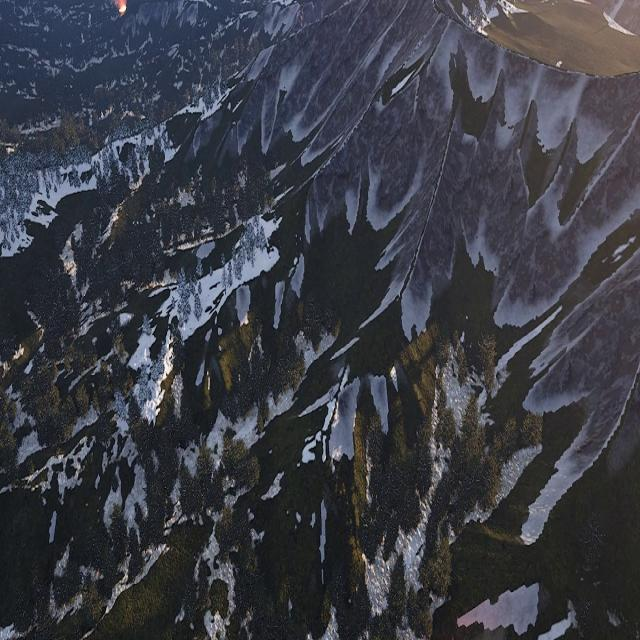fire: (116, 0, 126, 15)
